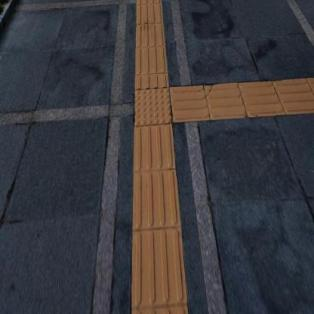Podoctatil: (132, 126, 190, 313), (174, 74, 313, 125), (119, 60, 197, 149), (134, 0, 171, 87)
